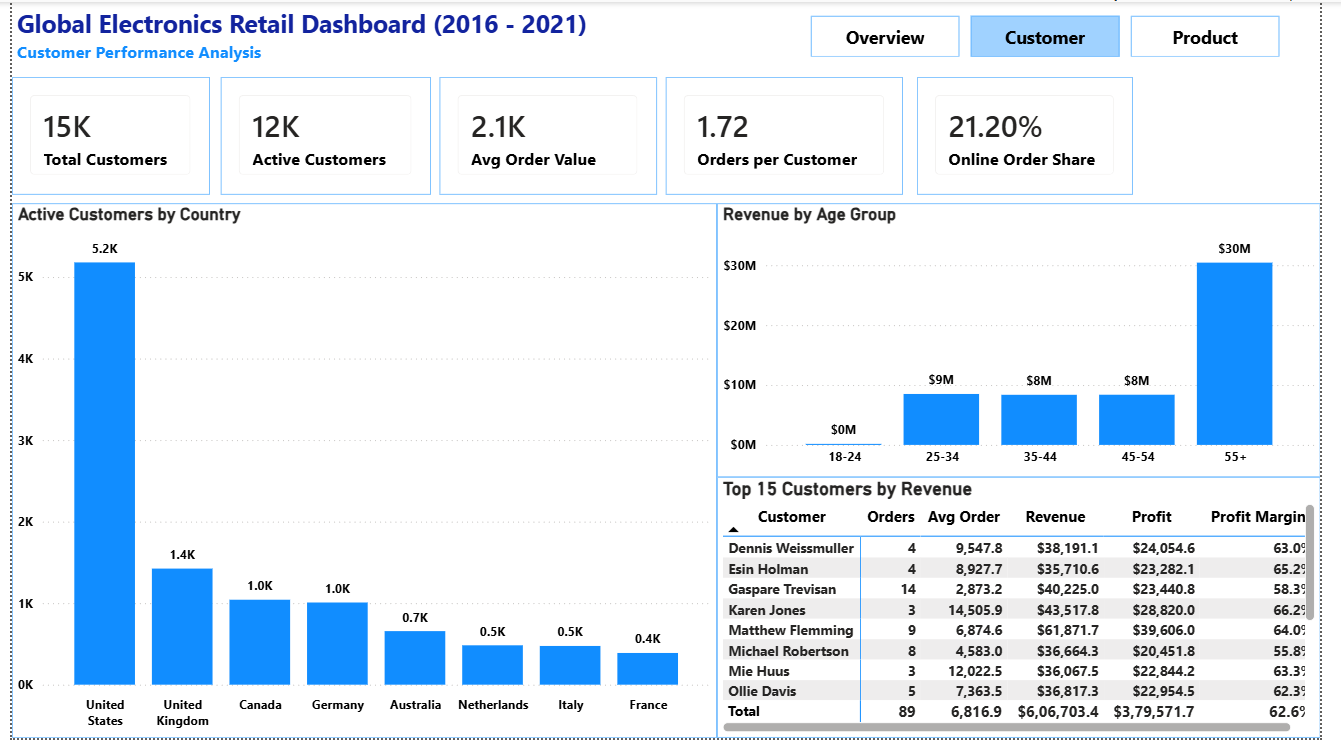

What the dashboard file says about the page in this screenshot:
{"tool":"powerbi","page":{"name":"Customer","canvas":[1280,720],"ordinal":1},"visuals":[{"type":"cardVisual","fields":{"Data":["Measures_Table.Total Customers"]},"box":[0,73.4,193.2,114.9],"z":0},{"type":"cardVisual","fields":{"Data":["Measures_Table.Average Order Value"]},"box":[418.2,73.4,212.8,114.9],"z":1000},{"type":"cardVisual","fields":{"Data":["Measures_Table.Orders per Customer"]},"box":[639.5,73.4,232.3,114.9],"z":2000},{"type":"cardVisual","fields":{"Data":["Measures_Table.Online Order Share"]},"box":[885.3,73.4,211.6,114.9],"z":3000},{"type":"cardVisual","fields":{"Data":["Measures_Table.Active Customers"]},"box":[204.2,73.4,205.4,114.9],"z":4000},{"type":"clusteredColumnChart","fields":{"Category":["Stores.Country"],"Y":["Measures_Table.Active Customers"]},"box":[0,196.9,689.7,523.4],"z":5000},{"type":"pivotTable","title":"Top 15 Customers by Revenue","fields":{"Rows":["Customers.Name"],"Values":["Measures_Table.Total Orders","Measures_Table.Average Order Value","Measures_Table.Revenue (USD)","Measures_Table.Profit","Measures_Table.Profit Margin"]},"box":[689.7,464.7,590.6,255.6],"z":6000},{"type":"textbox","box":[0,0,571.1,64.8],"z":7000},{"type":"clusteredColumnChart","title":"Revenue by Age Group","fields":{"Category":["Customers.Age Group"],"Y":["Measures_Table.Revenue (USD)"]},"box":[689.7,196.9,590.6,267.8],"z":7001},{"type":"actionButton","title":"Overview","box":[781.4,13.5,145.5,40.4],"z":7002},{"type":"actionButton","box":[937.9,13.5,145.5,40.4],"z":7003},{"type":"actionButton","box":[1094.4,13.5,145.5,40.4],"z":7004}]}

Visuals, with their boxes in screenshot pixels (x1, y1, x2, y2), scaled from the page's 1280x720 canvas onto the 1341x741 screenshot:
cardVisual - Measures_Table.Total Customers: 0, 76, 202, 194
cardVisual - Measures_Table.Average Order Value: 438, 76, 661, 194
cardVisual - Measures_Table.Orders per Customer: 670, 76, 913, 194
cardVisual - Measures_Table.Online Order Share: 927, 76, 1149, 194
cardVisual - Measures_Table.Active Customers: 214, 76, 429, 194
clusteredColumnChart - Stores.Country x Measures_Table.Active Customers: 0, 203, 723, 740
"Top 15 Customers by Revenue" pivotTable: 723, 478, 1340, 740
textbox: 0, 0, 598, 67
"Revenue by Age Group" clusteredColumnChart: 723, 203, 1340, 478
"Overview" actionButton: 819, 14, 971, 55
actionButton: 983, 14, 1135, 55
actionButton: 1147, 14, 1299, 55
